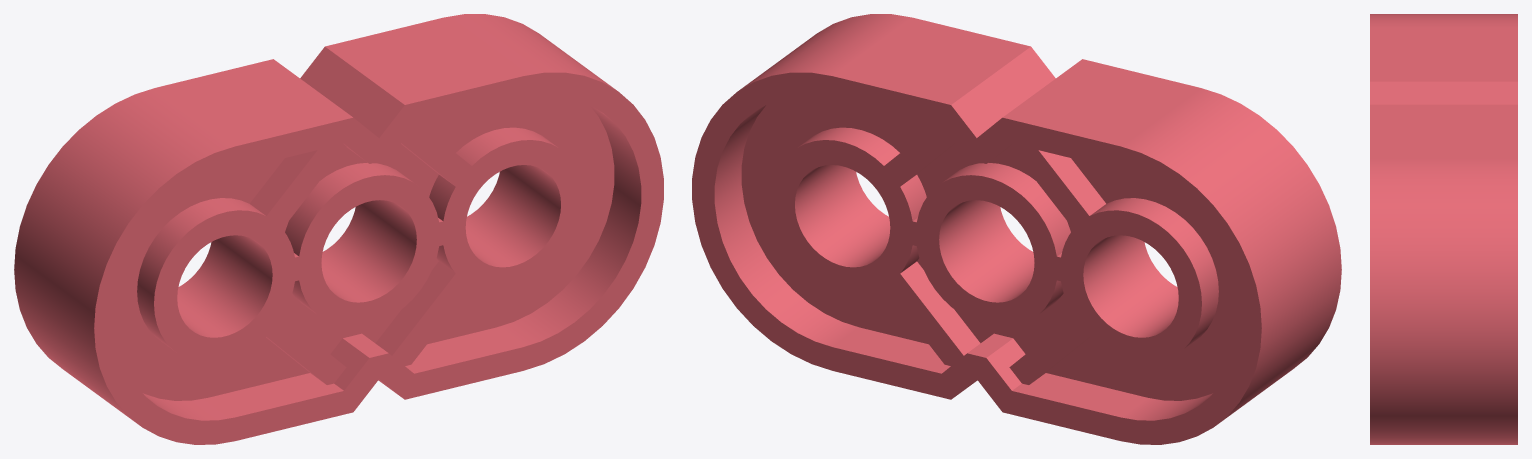
3 renders of one model, left to right at view 1: azimuth 30°, elevation 25°; view 2: azimuth 150°, elevation 25°; view 3: azimuth 270°, elevation 25°, orthographic. The views are drawn at different scales.
Visible parts, largest first — view 1: main_d22630; view 2: main_d22630; view 3: main_d22630.
Boxes of the visible parts, left/top/right/bottom form: main_d22630: left=14, top=14, right=663, bottom=444; main_d22630: left=692, top=14, right=1341, bottom=444; main_d22630: left=1370, top=14, right=1517, bottom=444.
Size of the model in its own units: 25.08 by 12.4 by 6.1.
